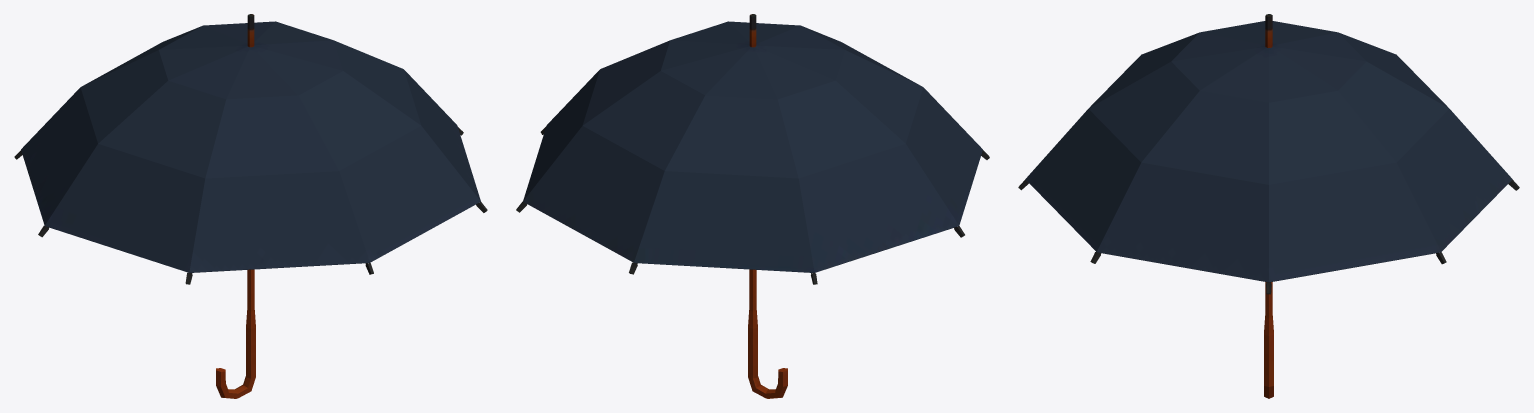
The model's file is ez4MoDQFgXz.glb.
The picture shows the model from 3 angles, left to right: view 1: azimuth 30°, elevation 25°; view 2: azimuth 150°, elevation 25°; view 3: azimuth 270°, elevation 25°; orthographic projection. The views are drawn at different scales.
Parts seen in each view (by area): view 1: Umbrella_mesh; view 2: Umbrella_mesh; view 3: Umbrella_mesh.
Part boxes in pixels (left/top/right/bottom): Umbrella_mesh: left=14, top=14, right=487, bottom=398; Umbrella_mesh: left=516, top=14, right=989, bottom=398; Umbrella_mesh: left=1018, top=14, right=1519, bottom=398.
Size of the model in its own units: 1.17 by 1 by 1.17.
Materials: 1 (1 with a texture image).
